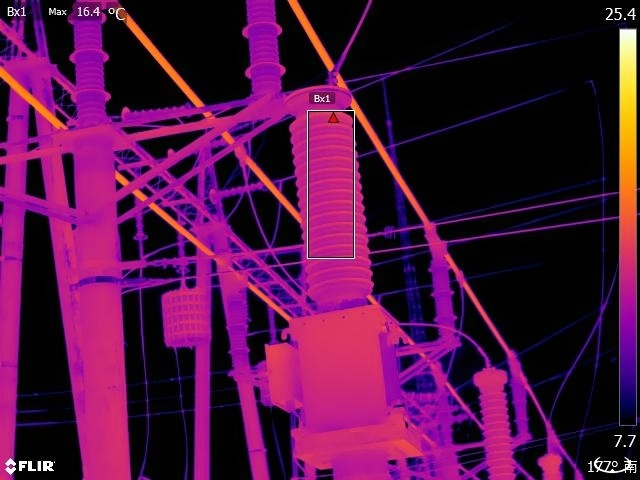insulator: (121, 100, 201, 123), (208, 179, 266, 205), (129, 183, 150, 238), (176, 212, 190, 280)
post insulator: (64, 1, 109, 117), (232, 1, 287, 95), (425, 249, 461, 339), (226, 292, 252, 371)
potential transformer: (286, 81, 422, 437), (474, 360, 521, 480), (535, 445, 564, 480)
wave trap: (161, 285, 214, 352)
